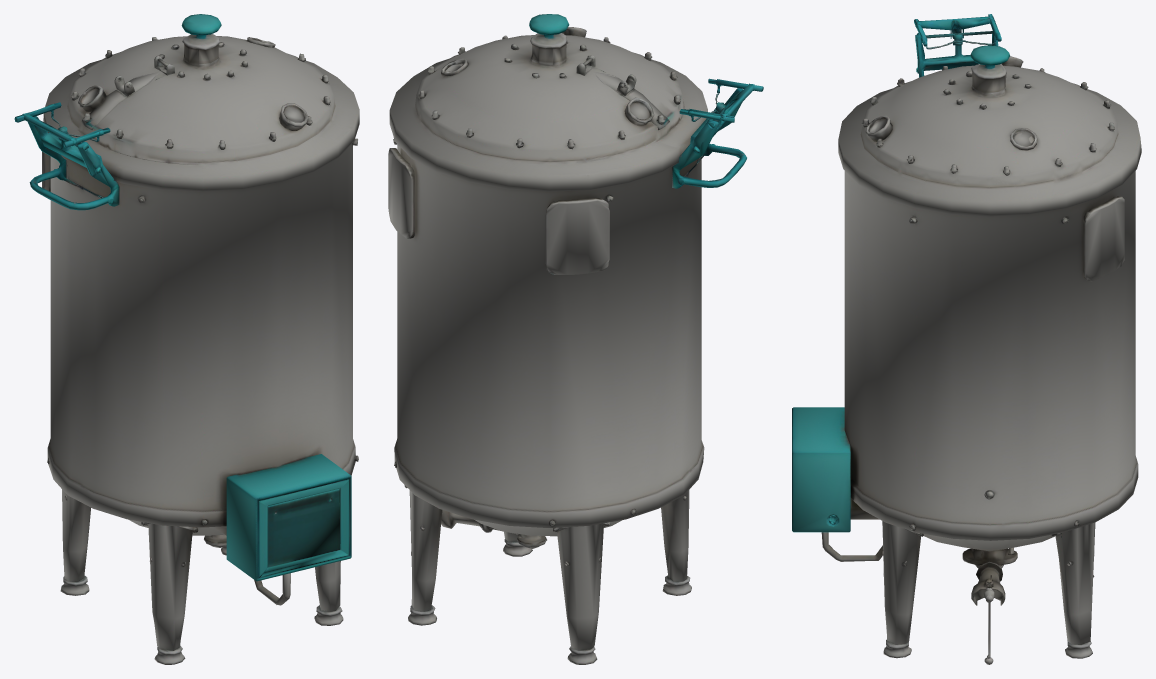
3 views of the same model, side by side, from view 1: azimuth 30°, elevation 25°; view 2: azimuth 150°, elevation 25°; view 3: azimuth 270°, elevation 25° (orthographic). The views are drawn at different scales.
Visible parts, largest first — view 1: tripo_node_6e7300b4-835c-4256-92a7-3ec0a7256c92; view 2: tripo_node_6e7300b4-835c-4256-92a7-3ec0a7256c92; view 3: tripo_node_6e7300b4-835c-4256-92a7-3ec0a7256c92.
Boxes of the visible parts, x1,y1,x2,y2 form: tripo_node_6e7300b4-835c-4256-92a7-3ec0a7256c92: [14, 14, 359, 664]; tripo_node_6e7300b4-835c-4256-92a7-3ec0a7256c92: [388, 14, 763, 664]; tripo_node_6e7300b4-835c-4256-92a7-3ec0a7256c92: [792, 14, 1141, 664].
Bounding box in the file's own units: 0.5879 × 0.998 × 0.5605.
1 material, 1 textured.
